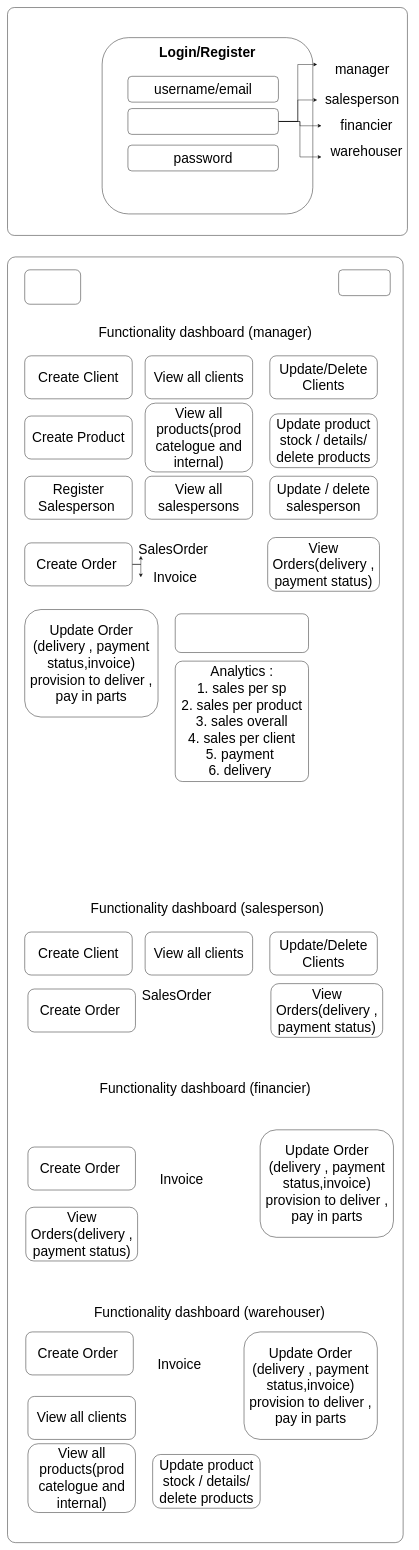
Image size: 419x1550. Some labels were removed from this diagram. The shapes that lost their labels are listed below. From the top down, each one's centre as x and y in pixels, then its label:
point (202, 121): type
point (52, 286): type of user
point (364, 282): Logout
point (242, 633): Cancel order
